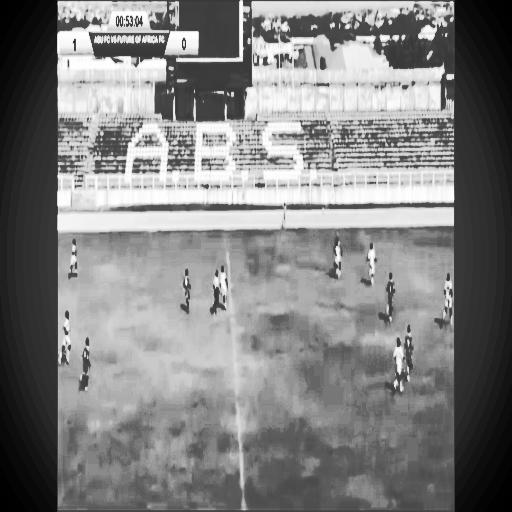referee: (212, 263, 220, 317)
team1: (59, 299, 74, 371), (391, 327, 404, 398), (443, 262, 454, 327), (66, 236, 82, 276), (219, 254, 228, 313), (367, 239, 377, 289), (330, 242, 340, 276)
team2: (82, 322, 93, 392), (405, 320, 415, 385), (182, 264, 192, 313), (387, 262, 394, 323)
